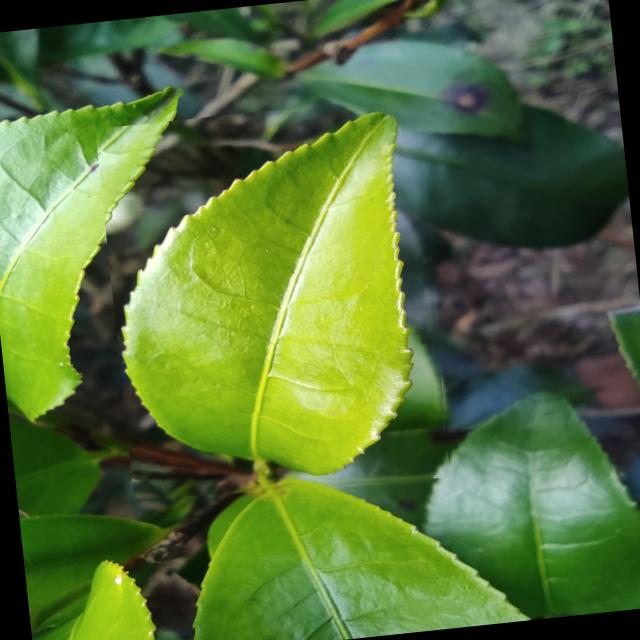Category B(2-4 days): (95, 94, 455, 510)
